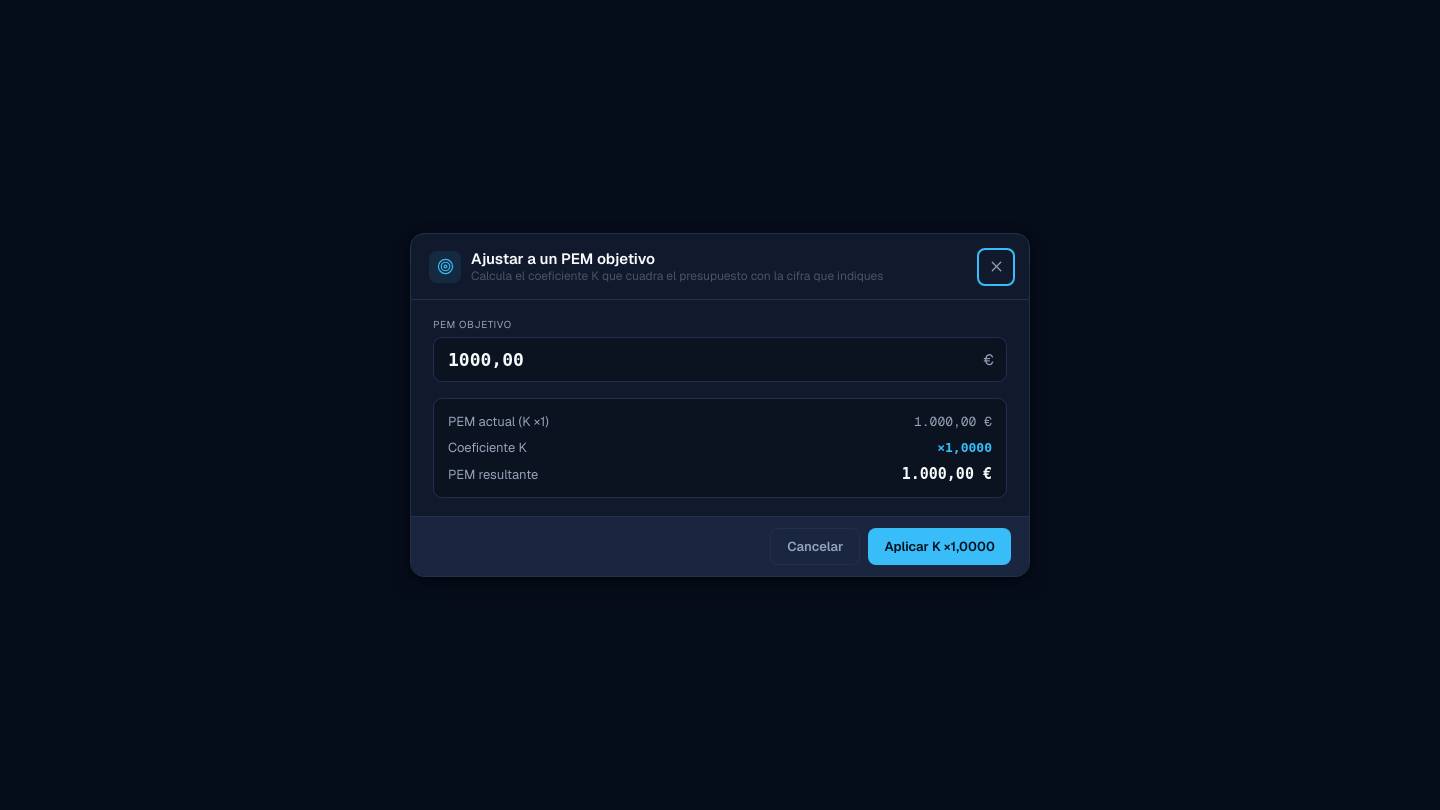
Test: AjustaModal · PEM objetivo › el punto del teclado numérico se muestra como coma decimal
Step 1. Replace the text in the field named "PEM objetivo en euros" with "1234.5" → (711, 360), box [446,348,975,371]
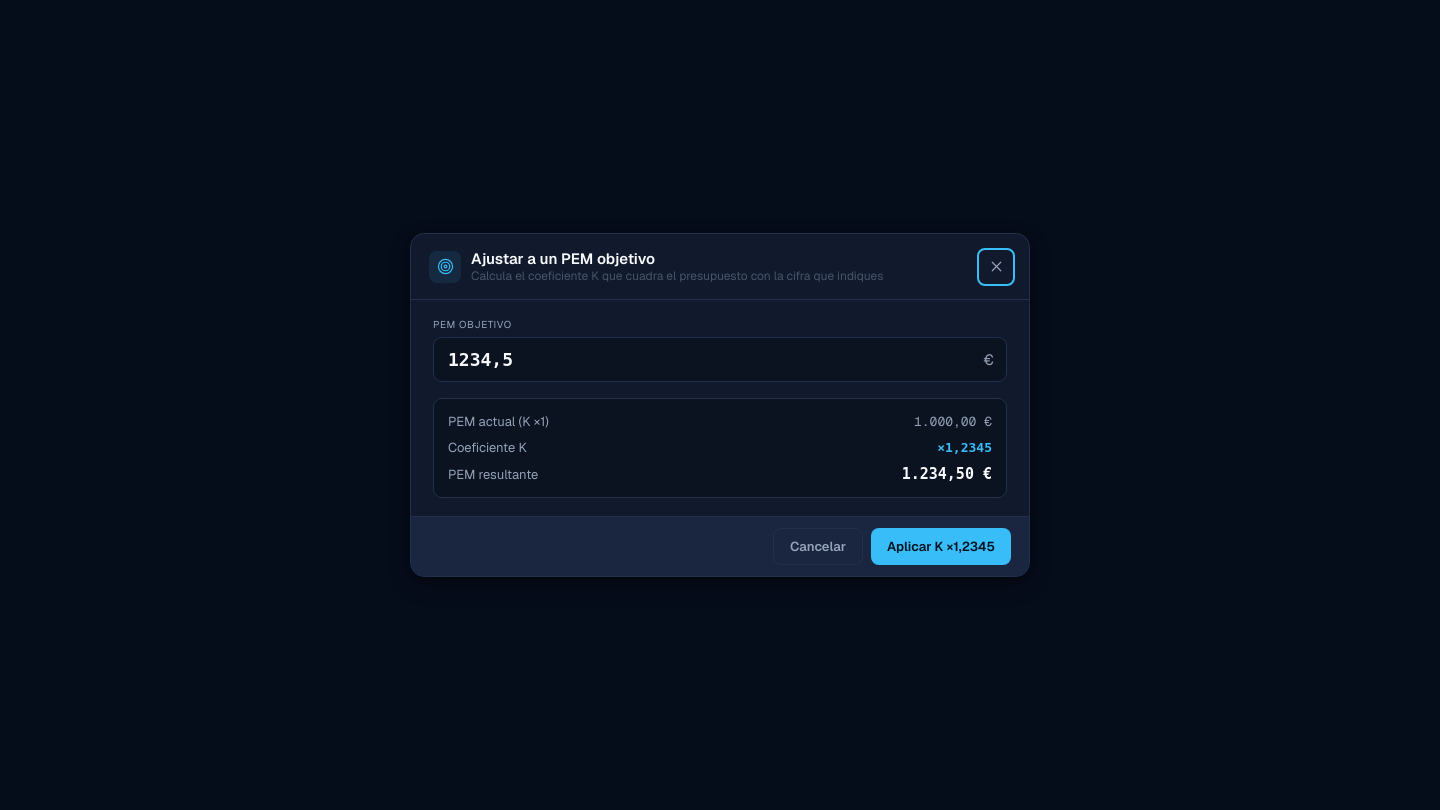
Result: the field named "PEM objetivo en euros" holds "1234,5" at [446,348,975,371]
